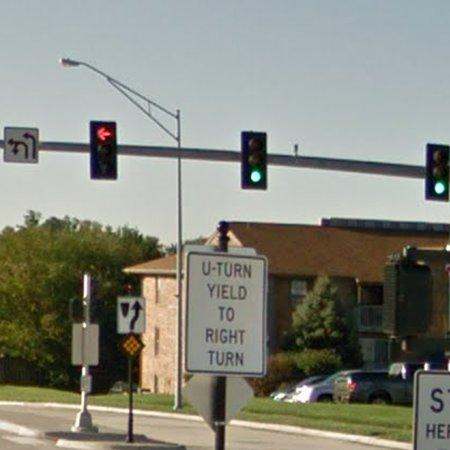traffic lights: (242, 131, 267, 189)
